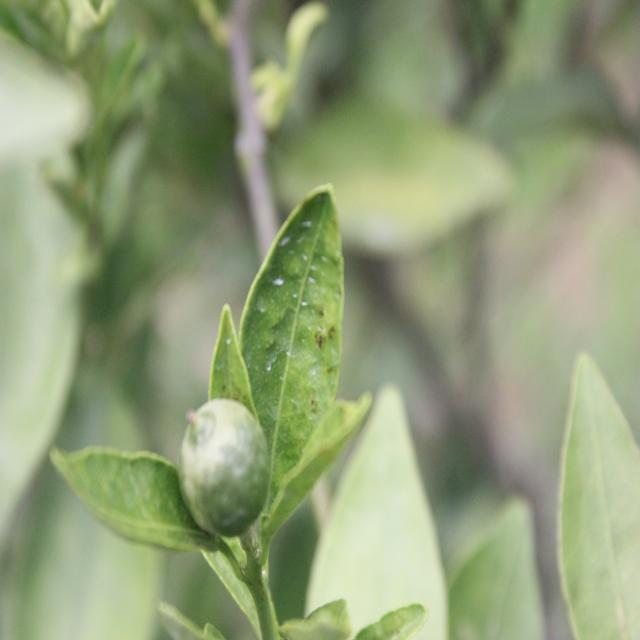canker: (292, 280, 341, 417)
